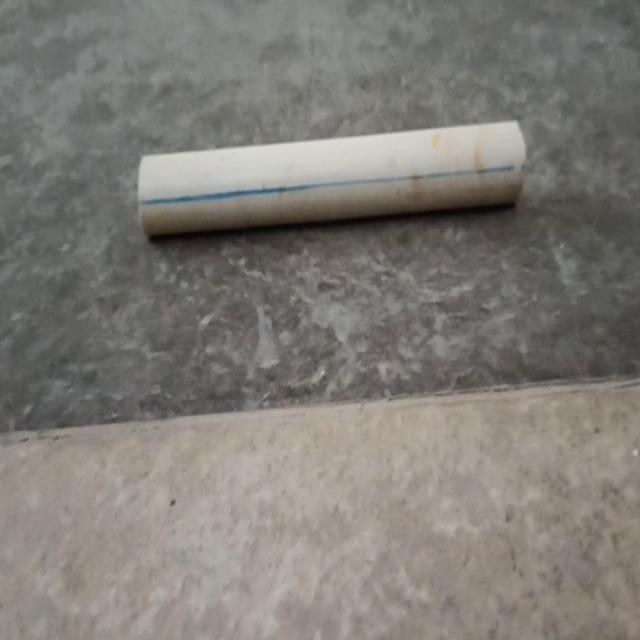Cube: (137, 117, 527, 239)
